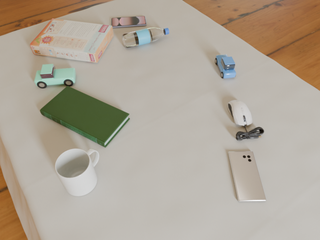book: (40, 86, 130, 147)
bottle: (122, 28, 169, 48)
box: (30, 19, 114, 63)
cup: (55, 149, 99, 196)
mouse: (228, 100, 252, 128)
phone: (228, 151, 266, 202), (112, 16, 146, 28)
toy_car: (34, 64, 76, 88), (215, 54, 236, 78)
